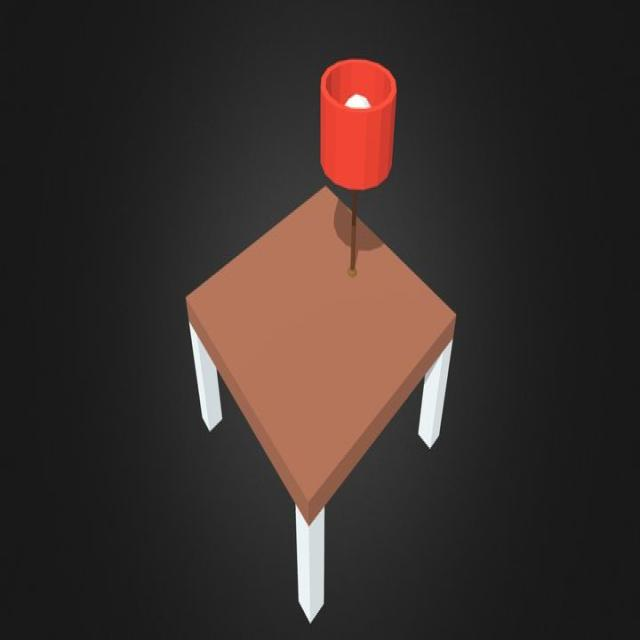lamp: (322, 58, 396, 278)
table: (184, 184, 458, 622)
